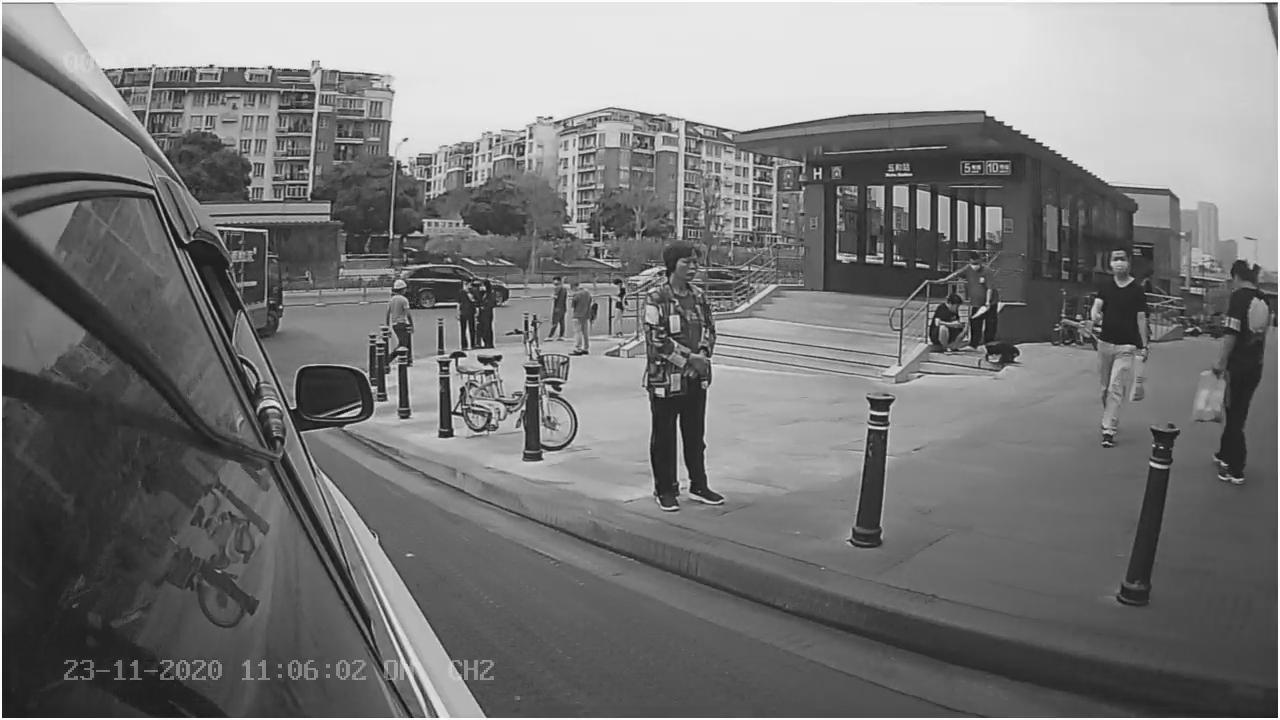person: (637, 241, 732, 516)
